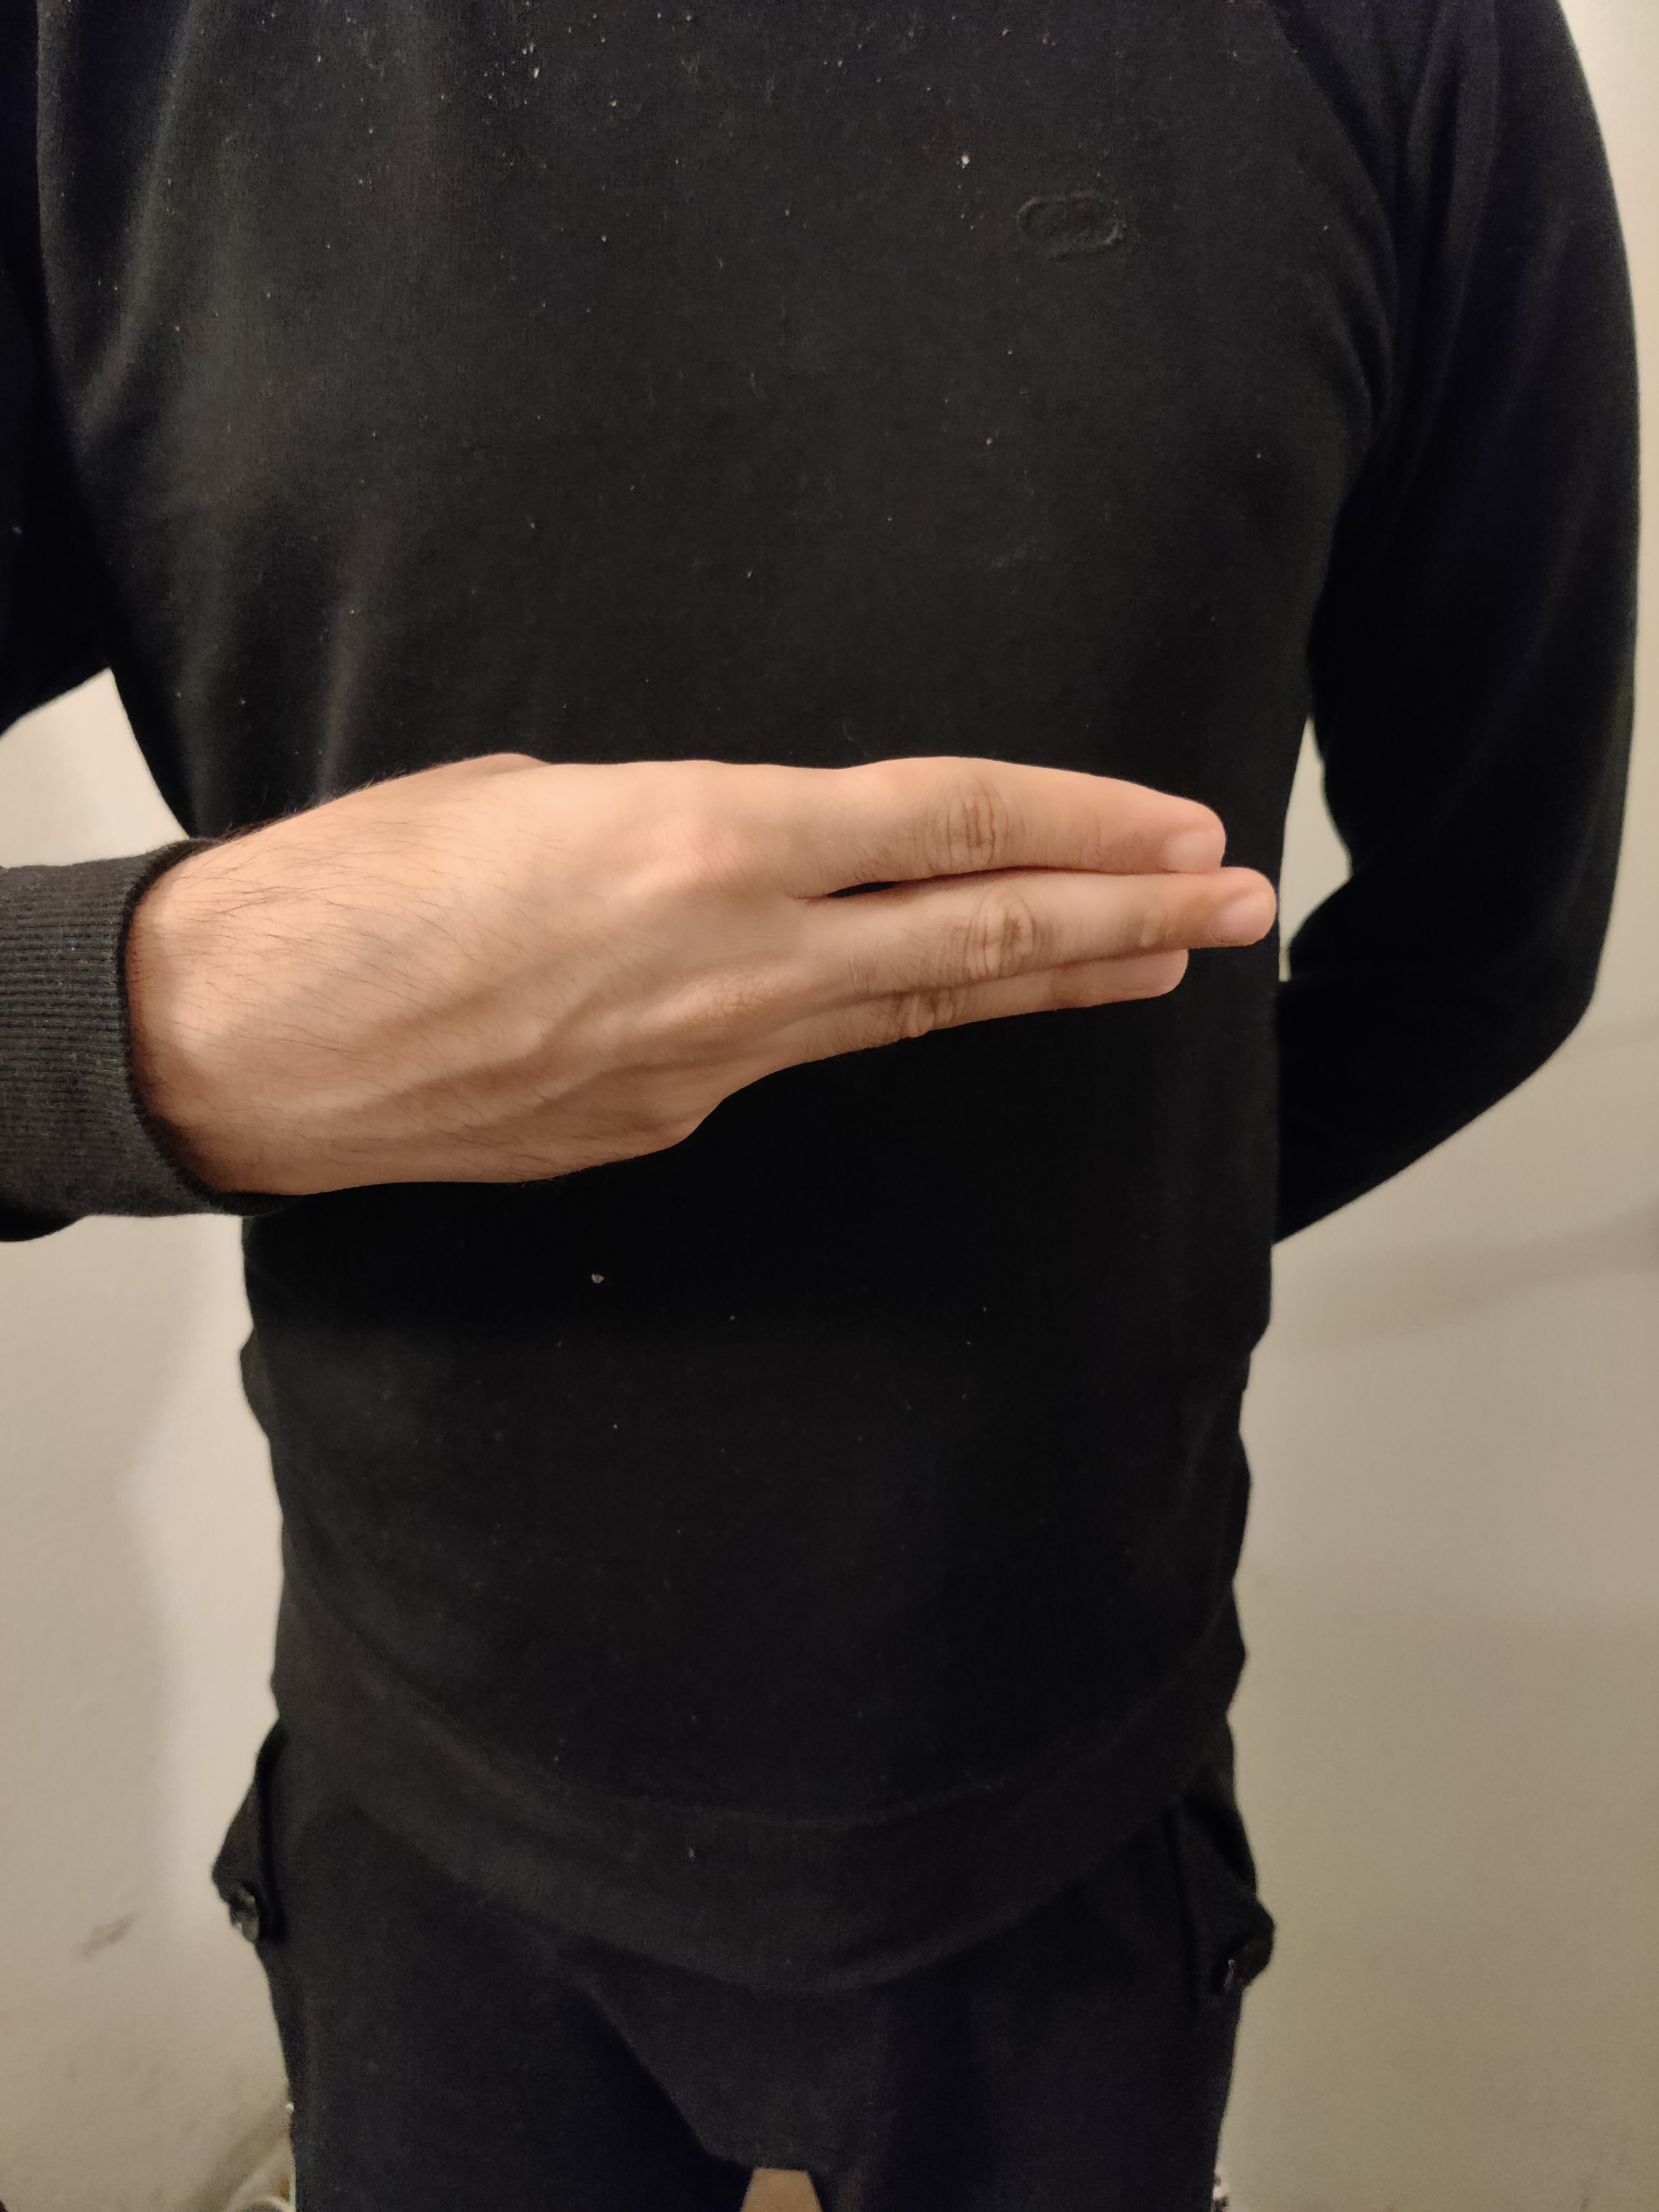left: (110, 399, 1542, 1568)
